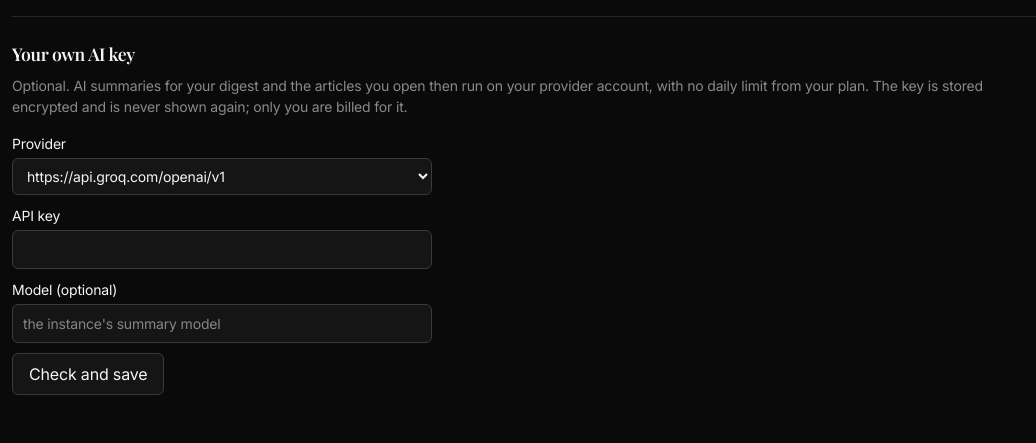
Test: own LLM key (#255) › shows the provider's refusal
In the password field labelled "API key": point(222, 250) top-left (12, 230), bottom-right (432, 269), type "sk-wrong-key"
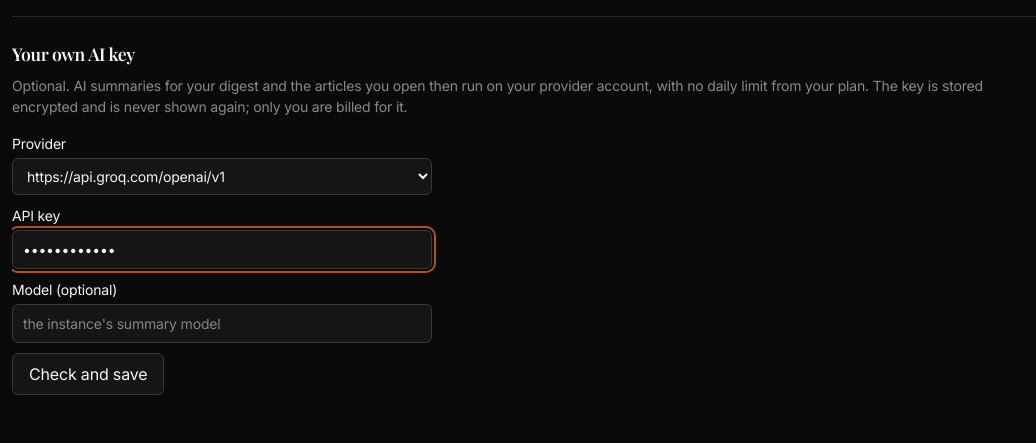
Click the button "Check and save": point(88, 374) top-left (12, 353), bottom-right (164, 395)
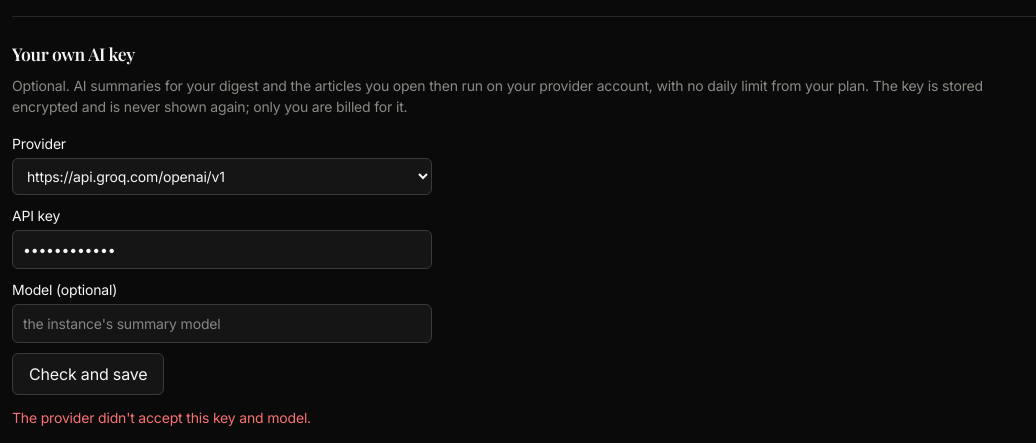
Result: the message shows "didn't accept" at top-left (12, 409), bottom-right (311, 426)
